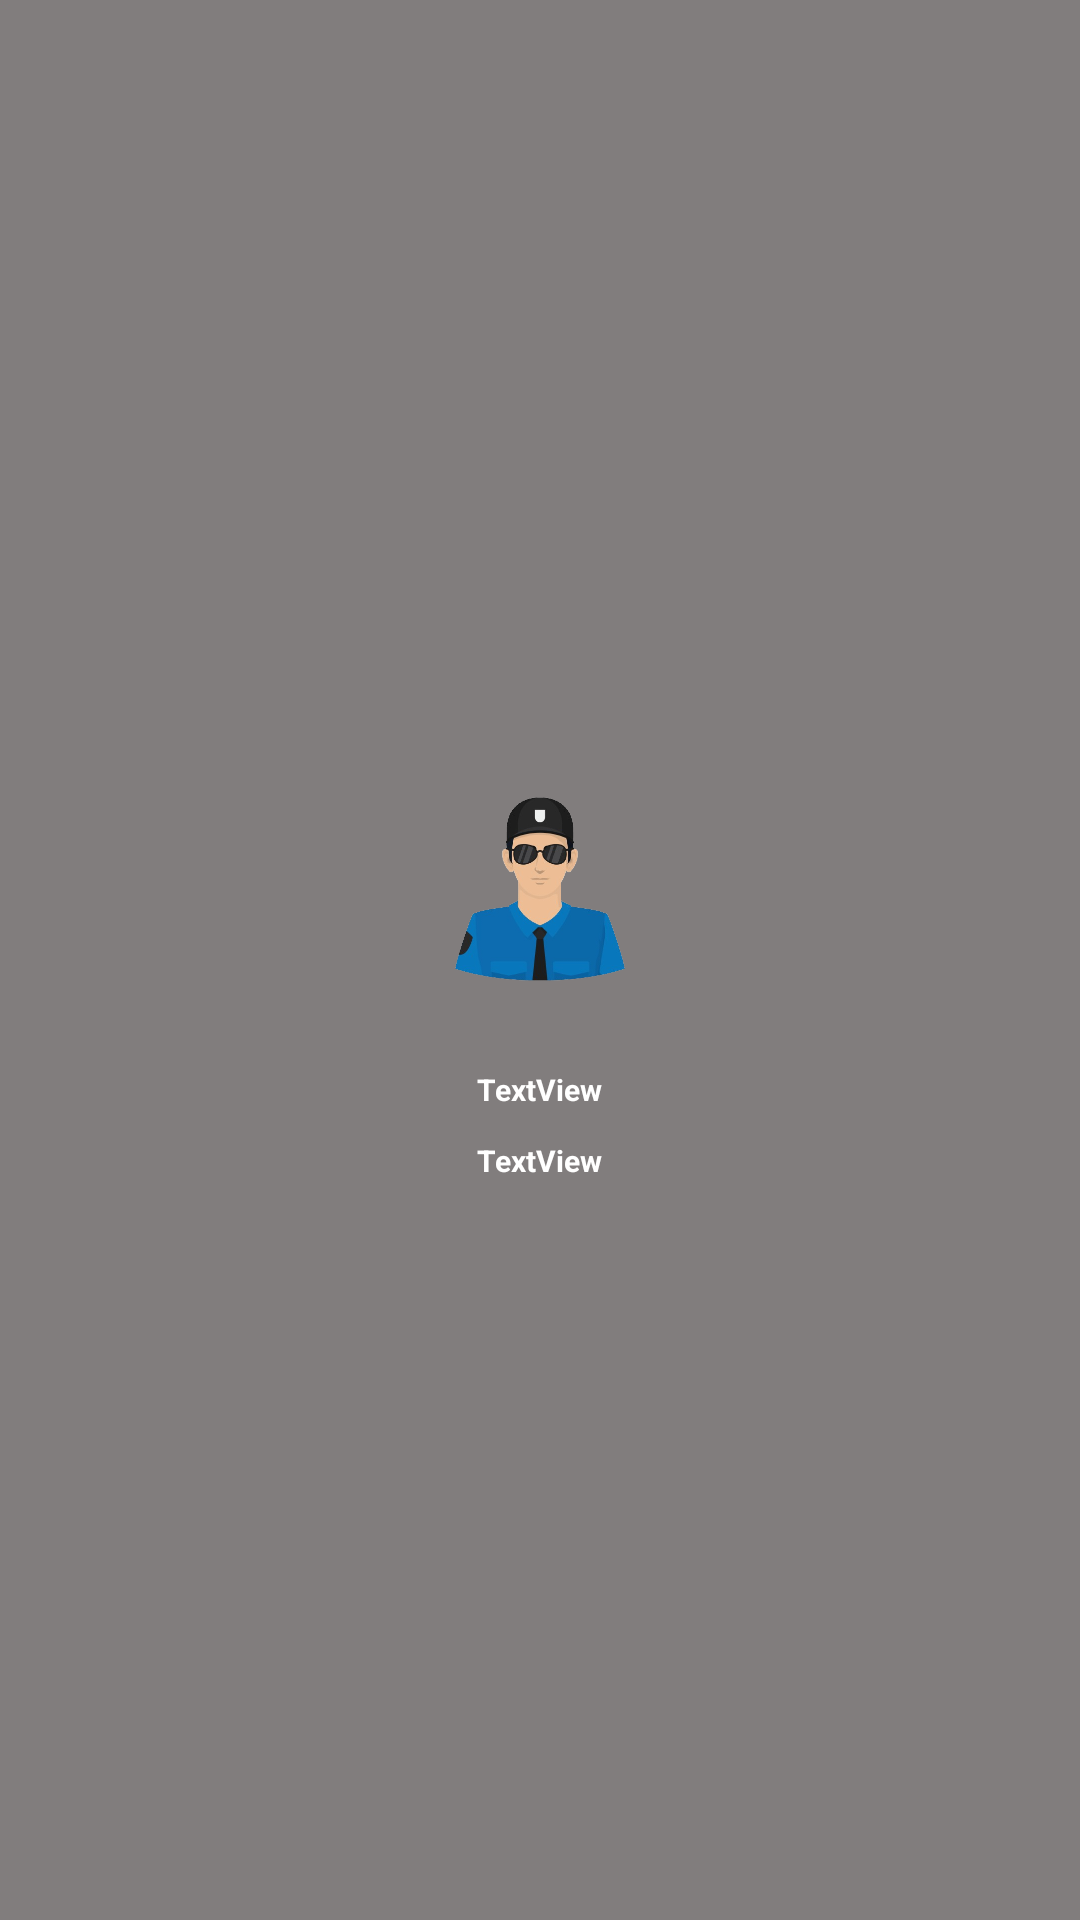

Screen size 1080x1920. Icon name, then its box in pixels as [x1, y1, x2, y2]:
guard: [455, 797, 625, 981]
